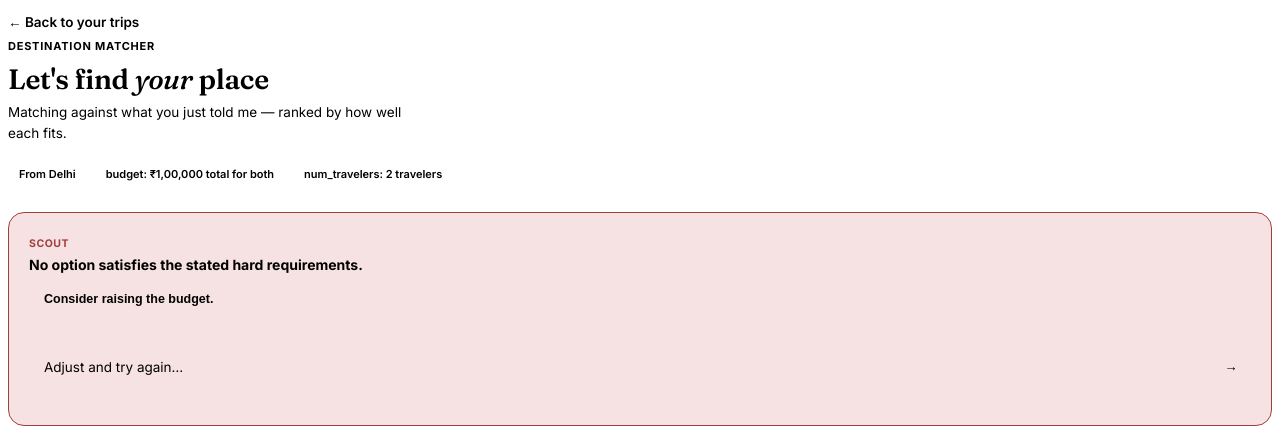
it: Destinations (real Meridian integration) › terminal-failure chips pre-fill the suggestion without auto-sending
The width and height of the screenshot is (1280, 443).
Check: the text "No option satisfies the stated hard requirements." is shown, box [29,256,363,273]
Click the button "Consider raising the budget." at (129, 299), box [29,283,228,315]
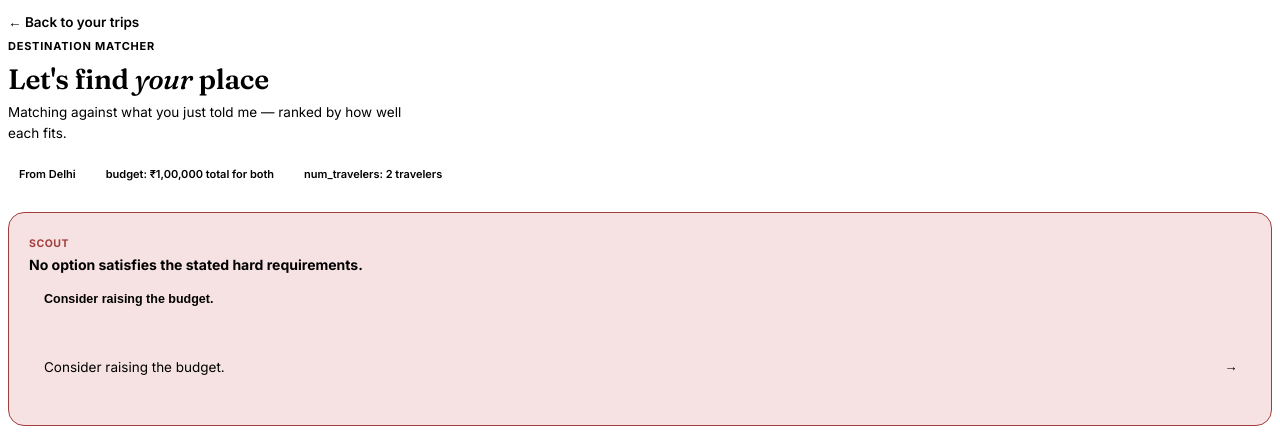
Check: the field with placeholder "Adjust and try again…" holds "Consider raising the budget.", box [29,347,1203,387]
